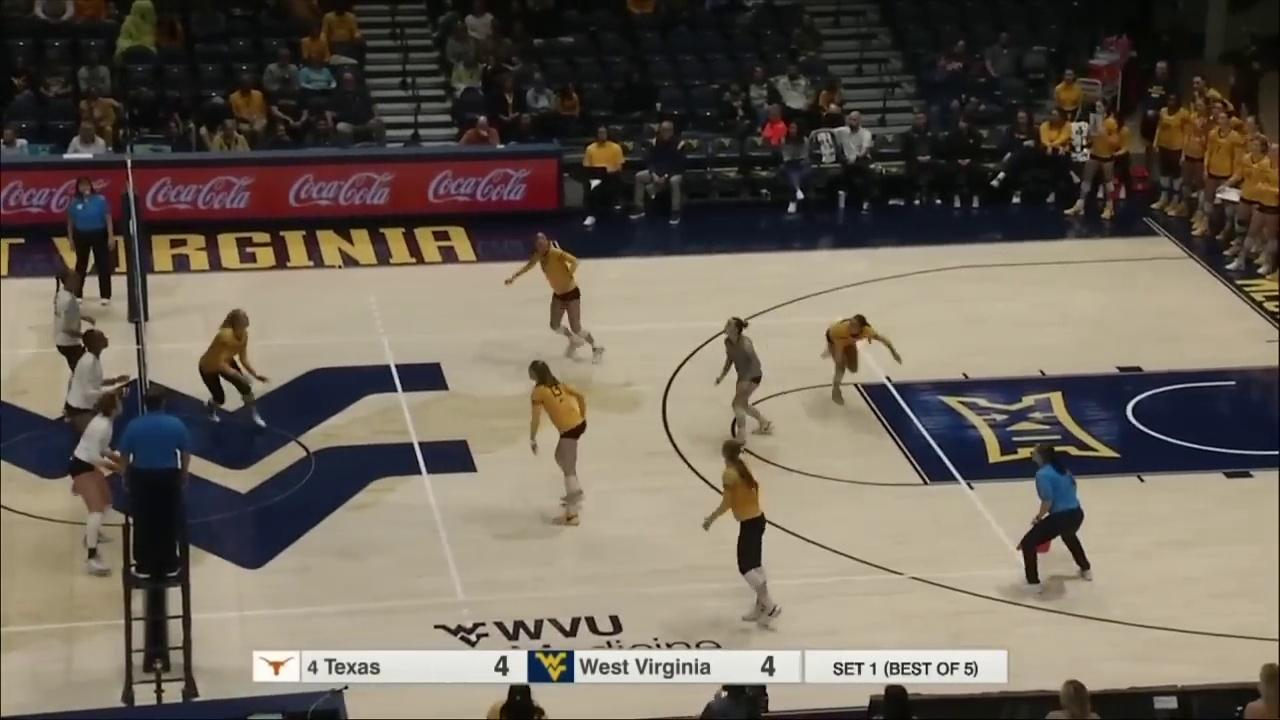player: (702, 440, 783, 630), (507, 231, 601, 370), (524, 363, 599, 530), (188, 303, 274, 429), (66, 325, 123, 507), (72, 387, 127, 575), (708, 311, 781, 452), (48, 269, 105, 424), (818, 307, 902, 408)
refree: (112, 386, 194, 582), (1010, 441, 1097, 597), (61, 178, 118, 305)
